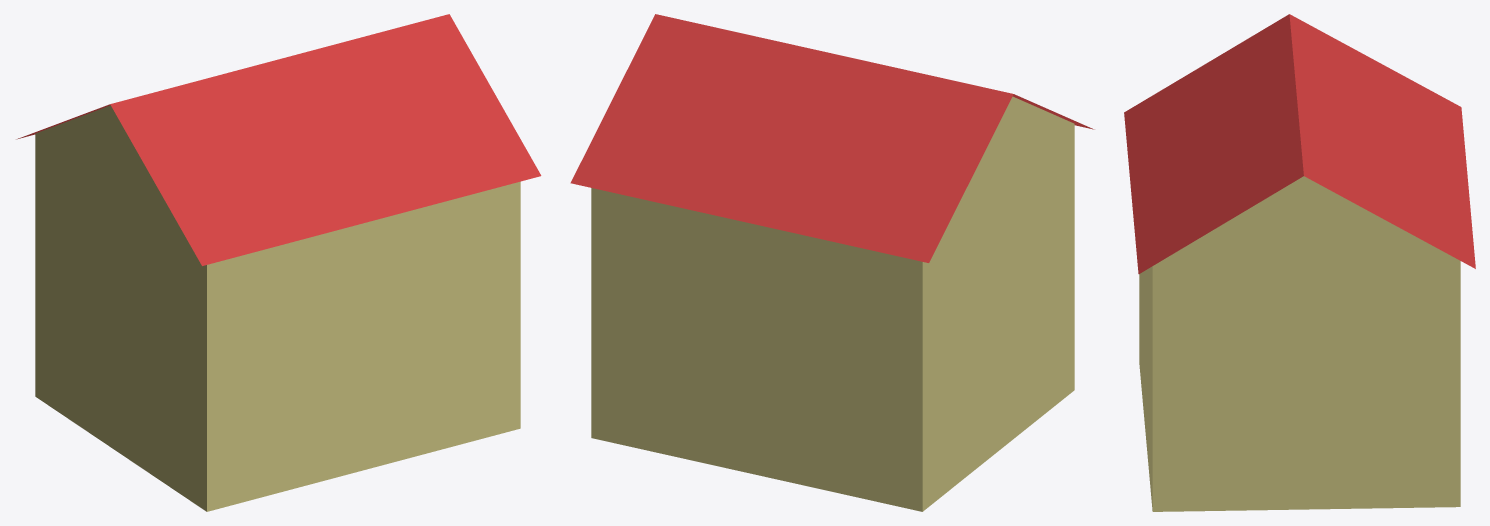
The picture shows the model from 3 angles, left to right: view 1: azimuth 30°, elevation 25°; view 2: azimuth 150°, elevation 25°; view 3: azimuth 270°, elevation 25°; orthographic projection. The views are drawn at different scales.
Size of the model in its own units: 13.54 by 12.02 by 12.81.
